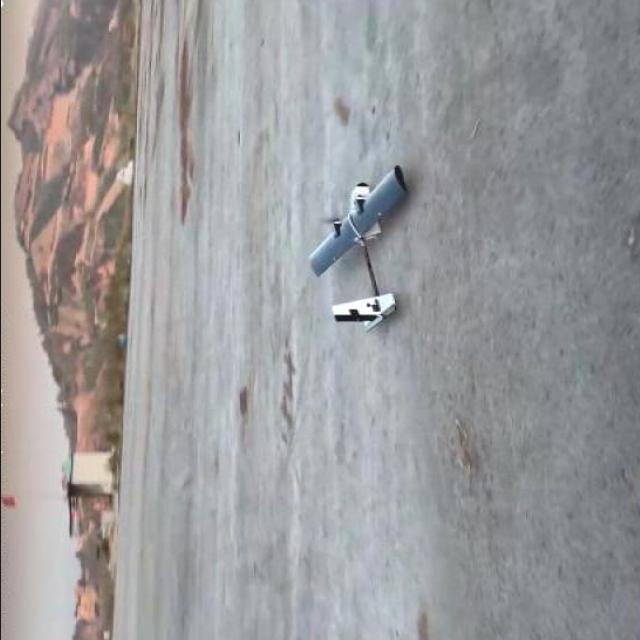plane: (305, 166, 408, 336)
